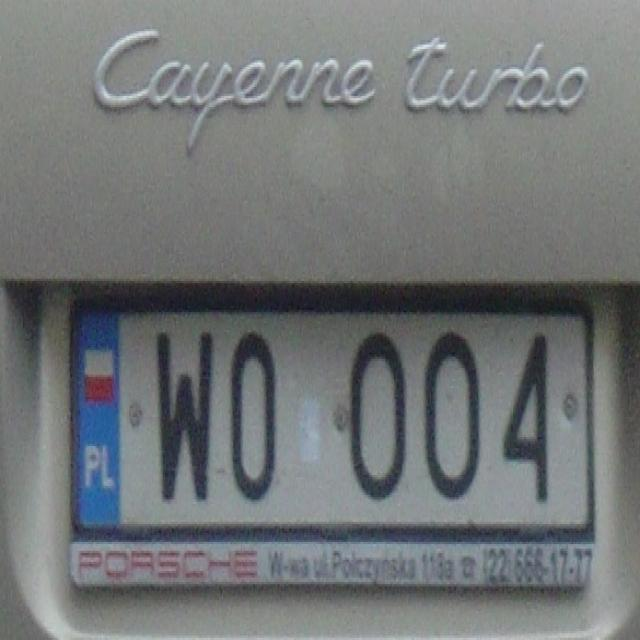License_Plate: (78, 310, 588, 520)
